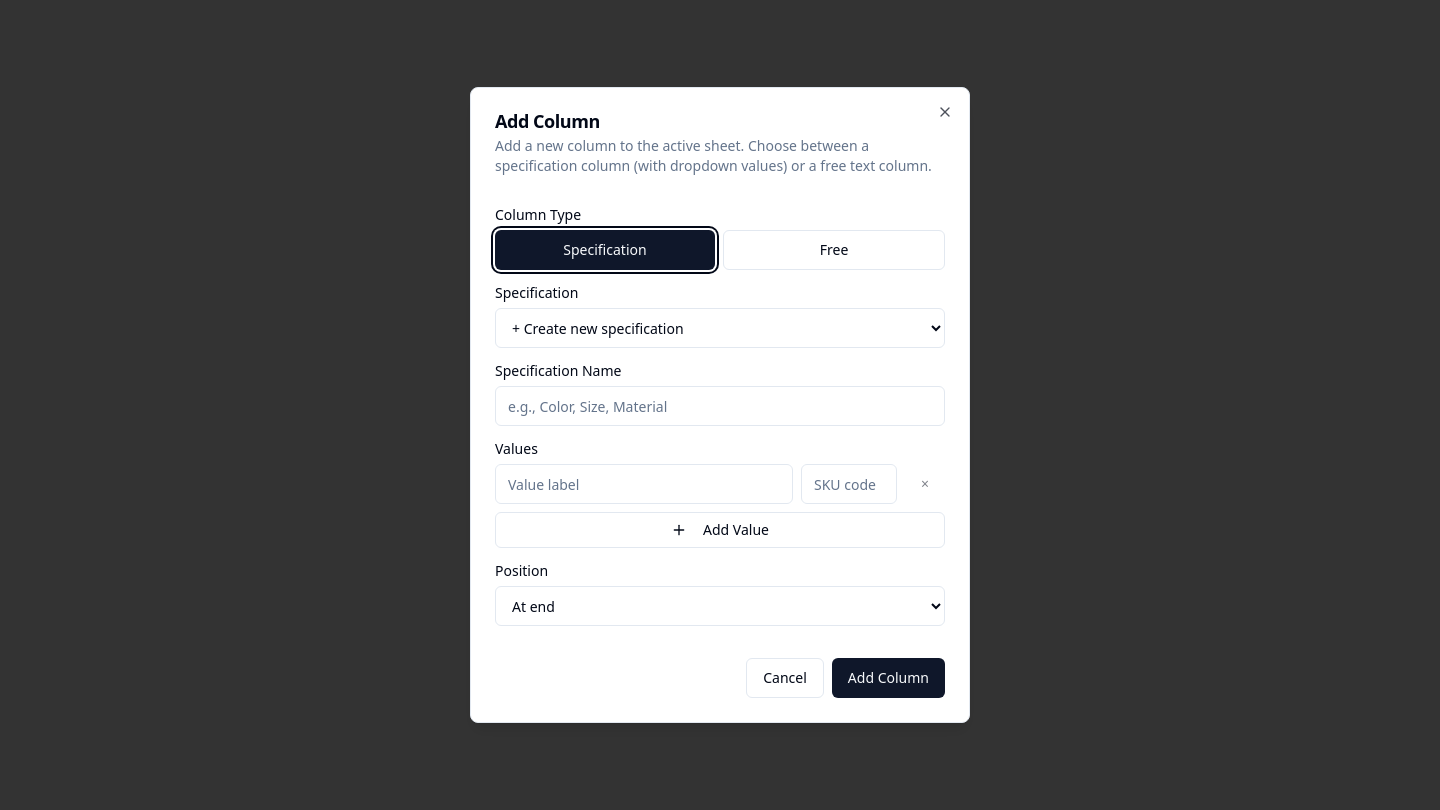
Scenario: AddColumnDialog › New Spec Form › adds new value row when Add Value clicked
Click the button with test id "add-value-button". click: [720, 530]
box: [495,512,945,548]
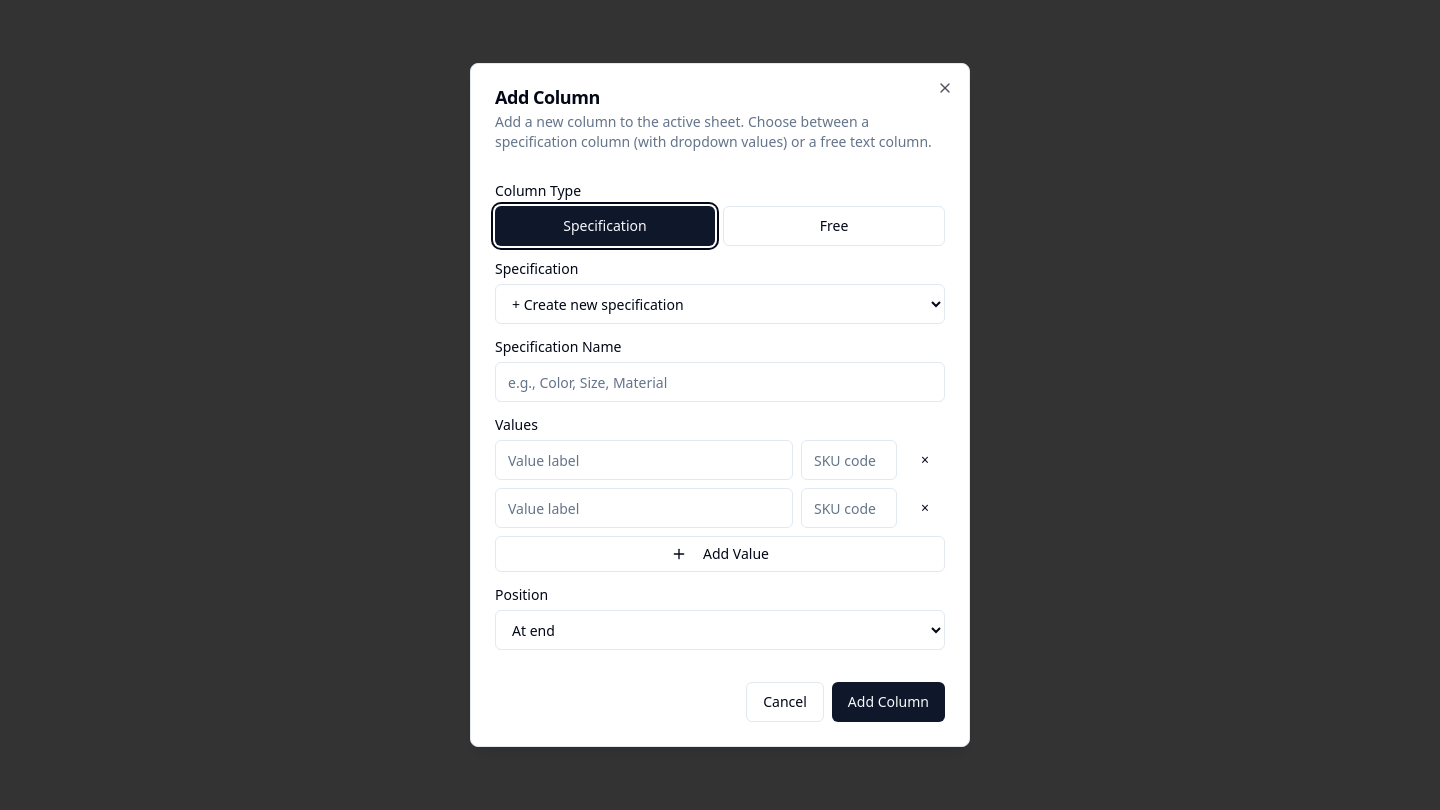
Expected: the field with test id "value-label-1" is shown, [495,488,793,528]
Expected: the field with test id "value-sku-1" is shown, [801,488,897,528]
